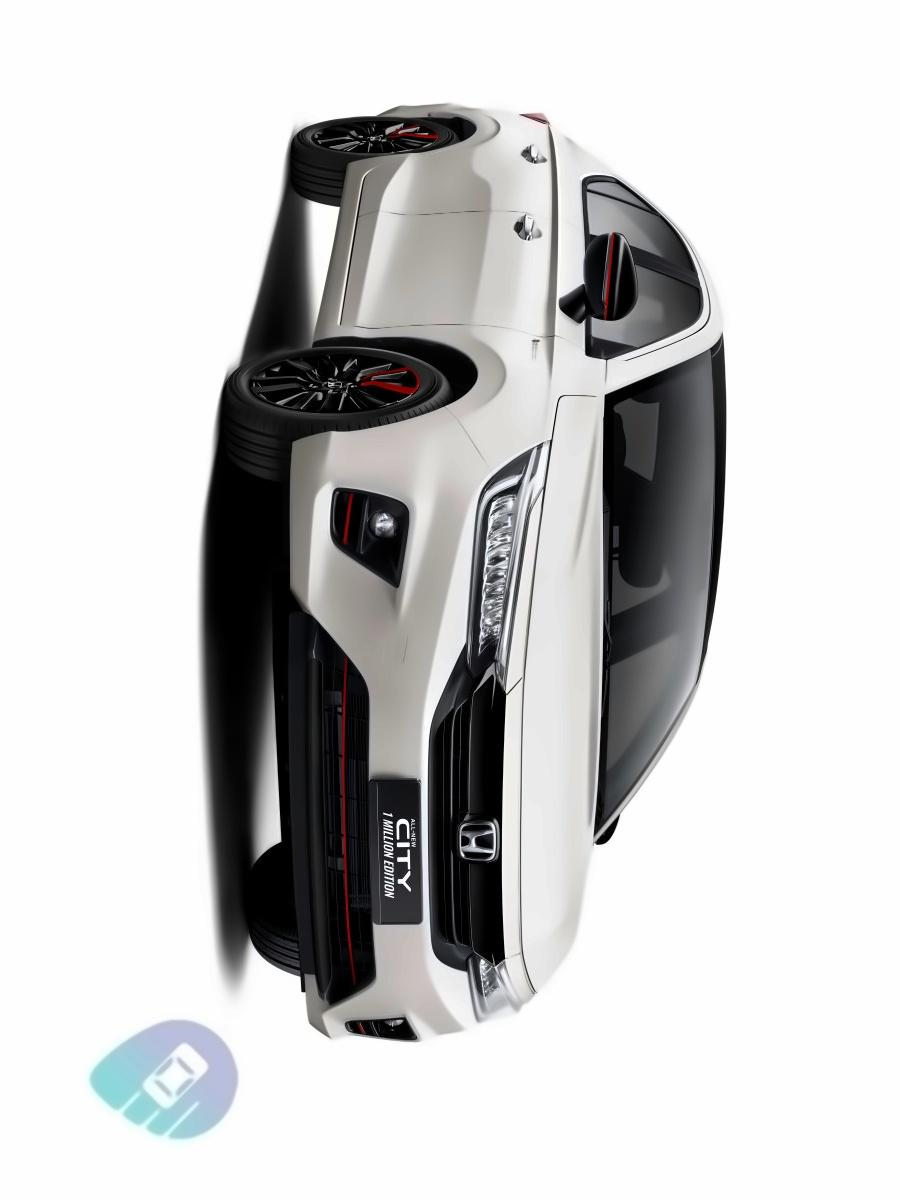Car hood: (494, 386, 607, 996)
Driver-s door - -F-R-: (333, 212, 724, 332)
Fender - -F-R-: (306, 320, 613, 473)
Fender - -R-R-: (356, 115, 578, 168)
Front bumper: (266, 420, 473, 1053)
Headlight - -L-: (451, 941, 544, 1031)
Headlight - -R-: (458, 430, 560, 699)
Passenger-s door - -R-R-: (349, 142, 702, 257)
Rear bumper: (356, 90, 494, 130)
Rear light - -R-: (506, 100, 562, 130)
Side bumper - -R-: (308, 138, 376, 351)
Side mirror - -L-: (580, 804, 638, 862)
Side mirror - -R-: (554, 224, 654, 332)
